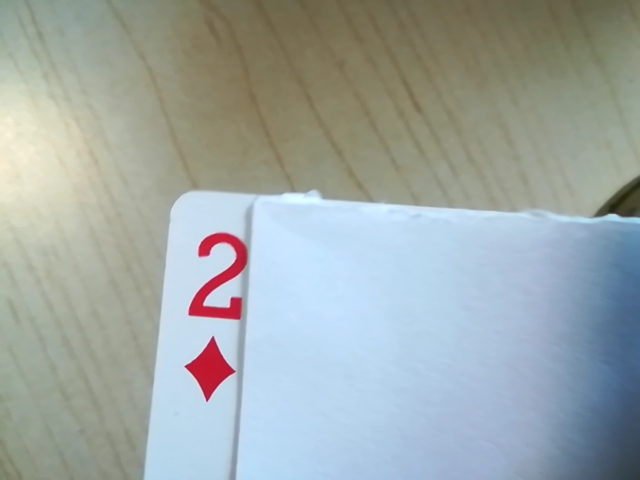fk 2: (172, 220, 258, 404)
